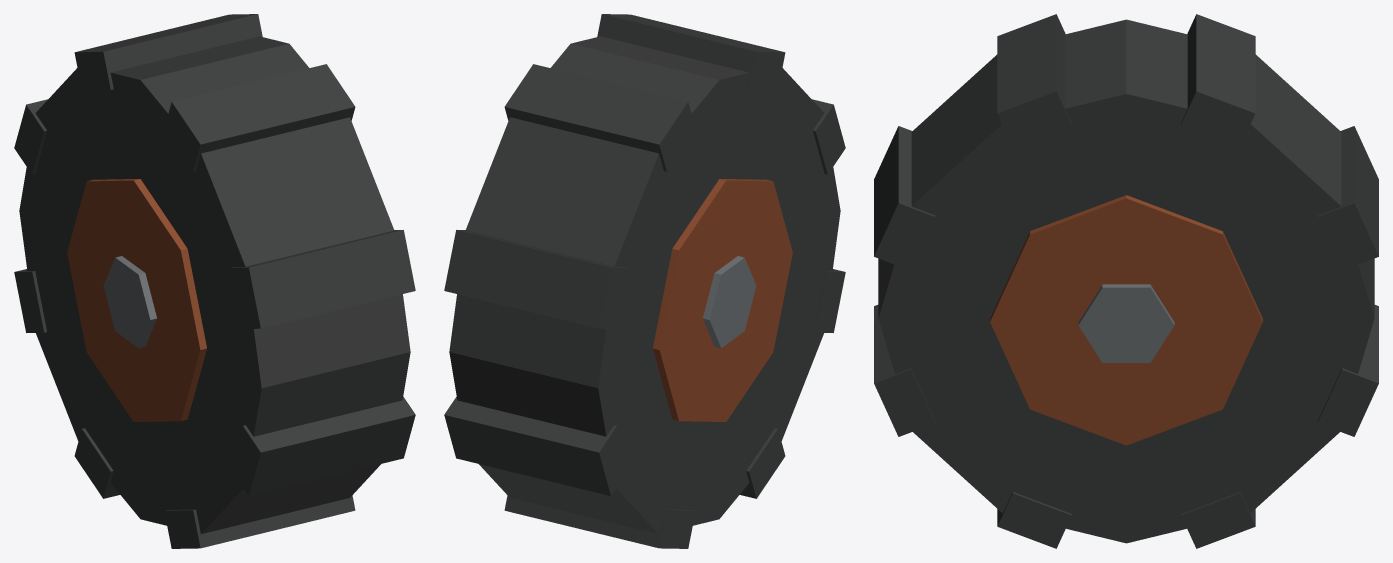
File: item_wheel.glb
The picture shows the model from 3 angles, left to right: view 1: azimuth 30°, elevation 25°; view 2: azimuth 150°, elevation 25°; view 3: azimuth 270°, elevation 25°; orthographic projection. The views are drawn at different scales.
Visible parts, largest first — view 1: wheel; view 2: wheel; view 3: wheel.
Part boxes in pixels (bbox=[...]): wheel: bbox=[14, 14, 415, 548]; wheel: bbox=[444, 14, 845, 548]; wheel: bbox=[874, 14, 1378, 548].
Size of the model in its own units: 0.26 by 0.6311 by 0.6311.
